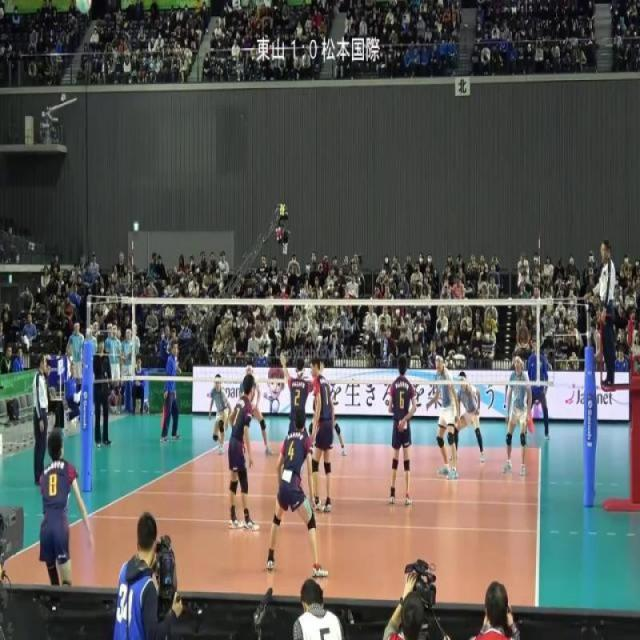volleyball: (75, 0, 92, 16)
